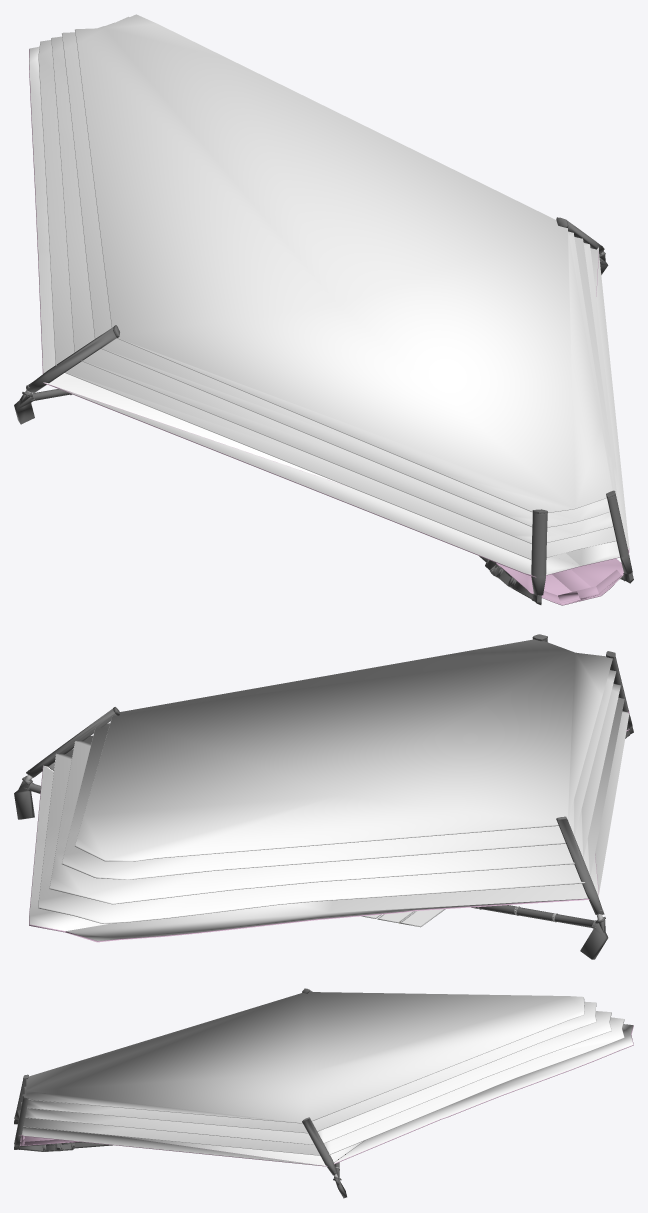
3 renders of one model, top to bottom at view 1: azimuth 30°, elevation 25°; view 2: azimuth 150°, elevation 25°; view 3: azimuth 270°, elevation 25°, orthographic. The views are drawn at different scales.
Visible parts, largest first — view 1: Sunscreens; view 2: Sunscreens; view 3: Sunscreens.
Part boxes in pixels (<box>): Sunscreens: <box>14,14,633,605</box>; Sunscreens: <box>14,634,633,959</box>; Sunscreens: <box>14,988,633,1198</box>.
Bounding box in the file's own units: 12.87 × 4.8 × 19.69.
